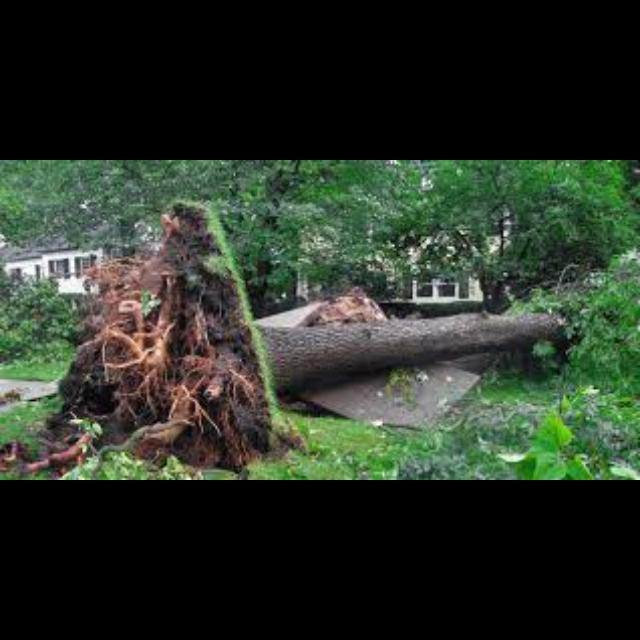fallen_tree: (111, 208, 581, 456)
